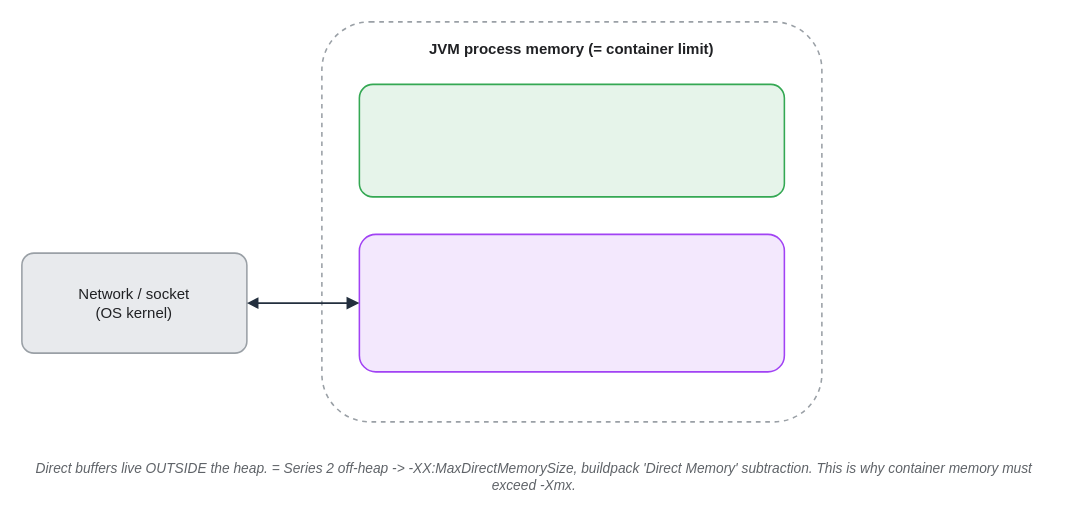
Image size: 1069x526. Some labels were removed from this diagram. Each missing label, with the centre of its shape:
"Direct Memory (off-heap, native) netty socket I/O buffers (pooled)" goes at point (571, 302).
"JVM Heap (-Xmx) objects, GC-managed" goes at point (571, 140).
